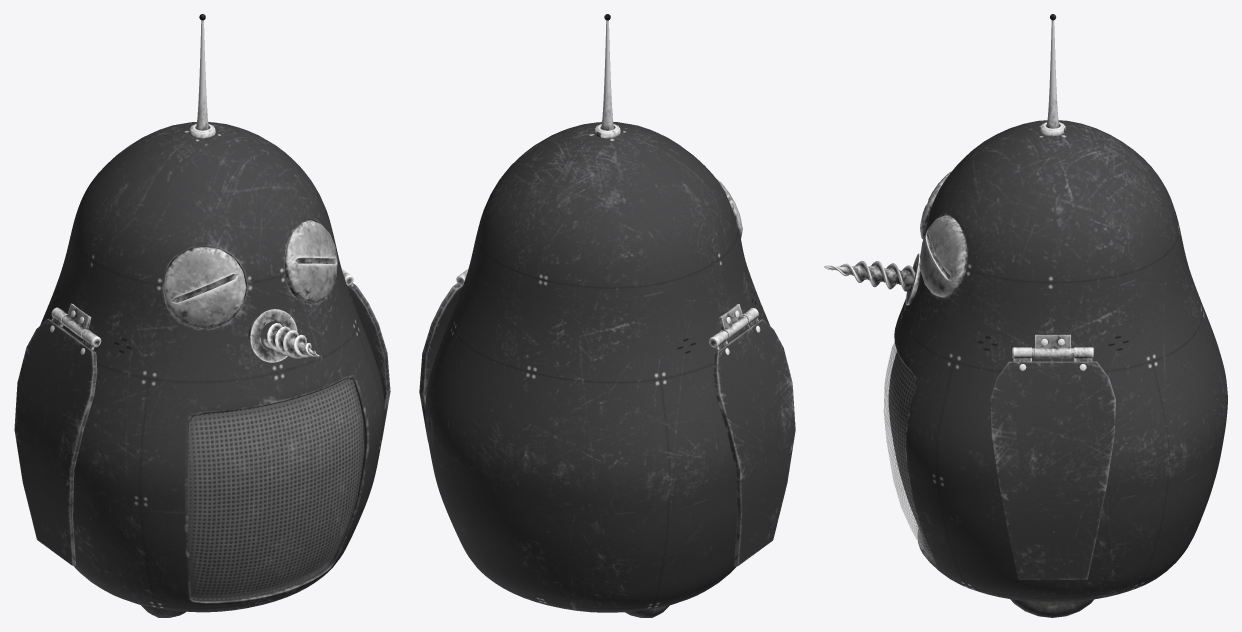
The model's file is weathered_penguin-bot.glb.
3 renders of one model, left to right at view 1: azimuth 30°, elevation 25°; view 2: azimuth 150°, elevation 25°; view 3: azimuth 270°, elevation 25°, orthographic.
Visible parts, largest first — view 1: penguinobj:penguin19; view 2: penguinobj:penguin19; view 3: penguinobj:penguin19.
Boxes of the visible parts, left/top/right/bottom form: penguinobj:penguin19: left=14, top=14, right=390, bottom=617; penguinobj:penguin19: left=419, top=14, right=795, bottom=617; penguinobj:penguin19: left=824, top=14, right=1227, bottom=617.
Size of the model in its own units: 4.48 by 7.85 by 4.96.
1 material, 1 textured.
